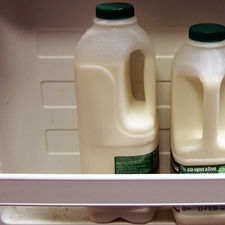milk: (73, 3, 161, 223), (172, 23, 224, 225)
